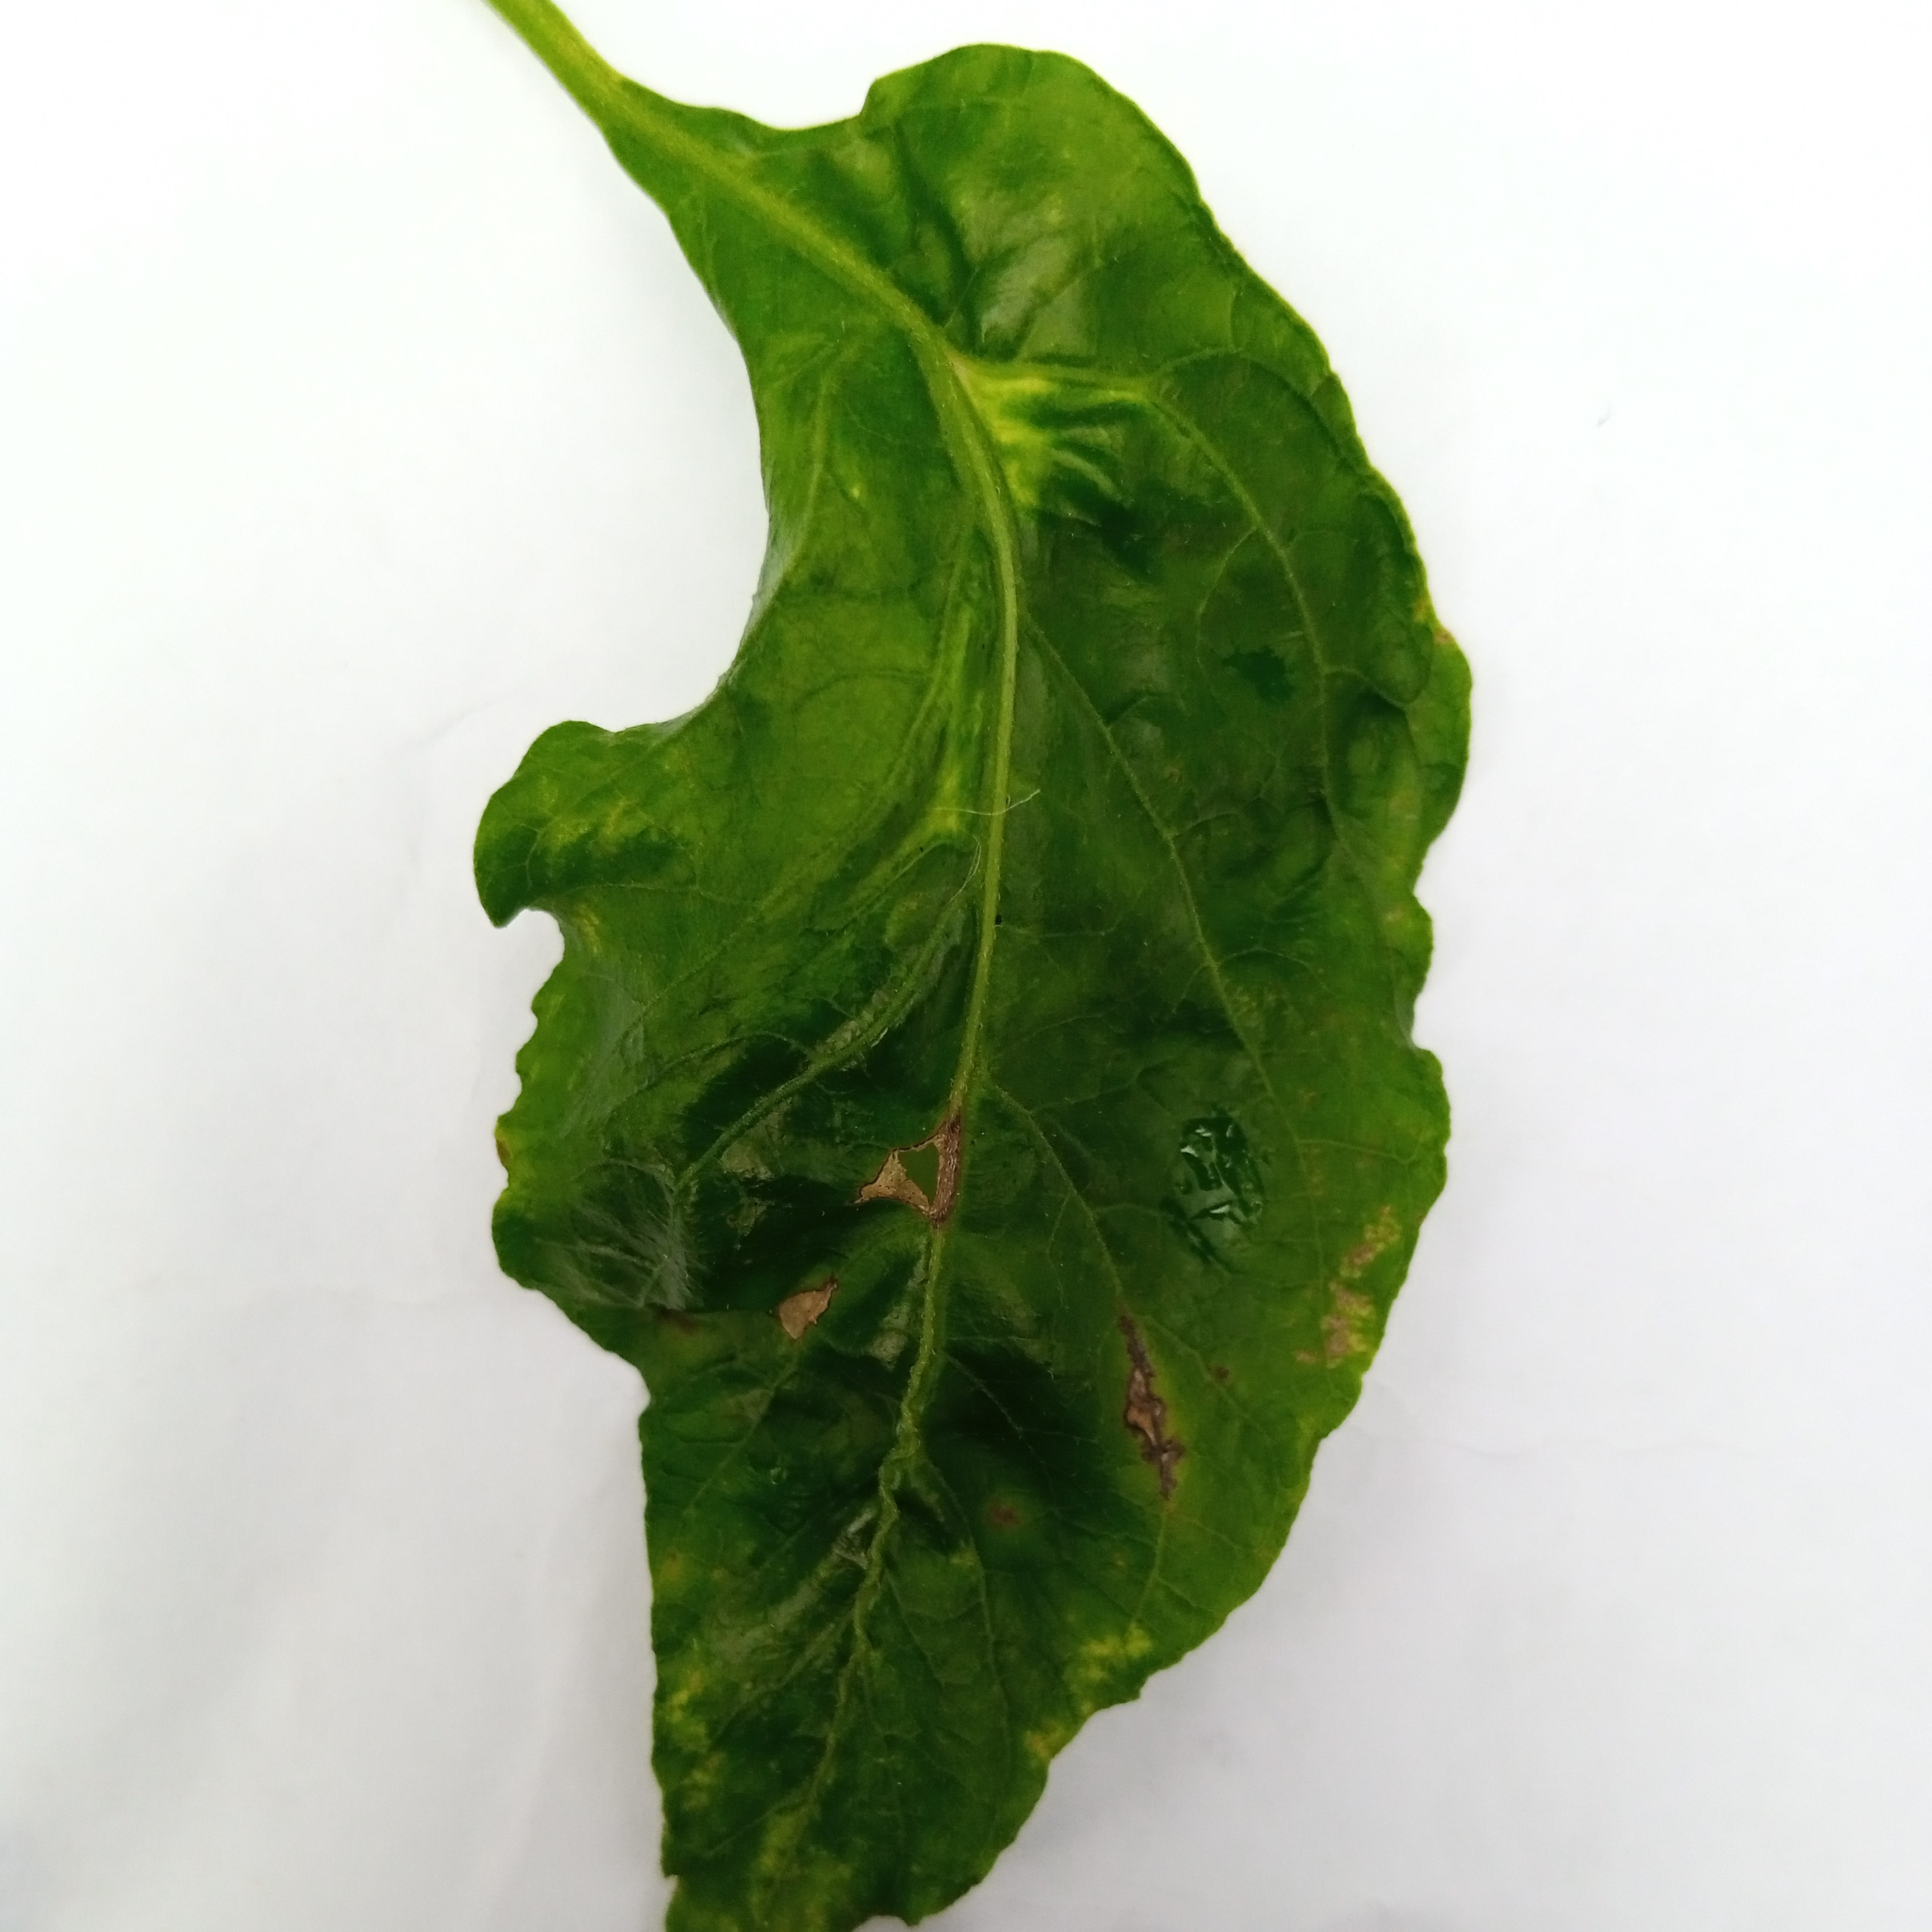Leaf: (336, 34, 1548, 1932)
